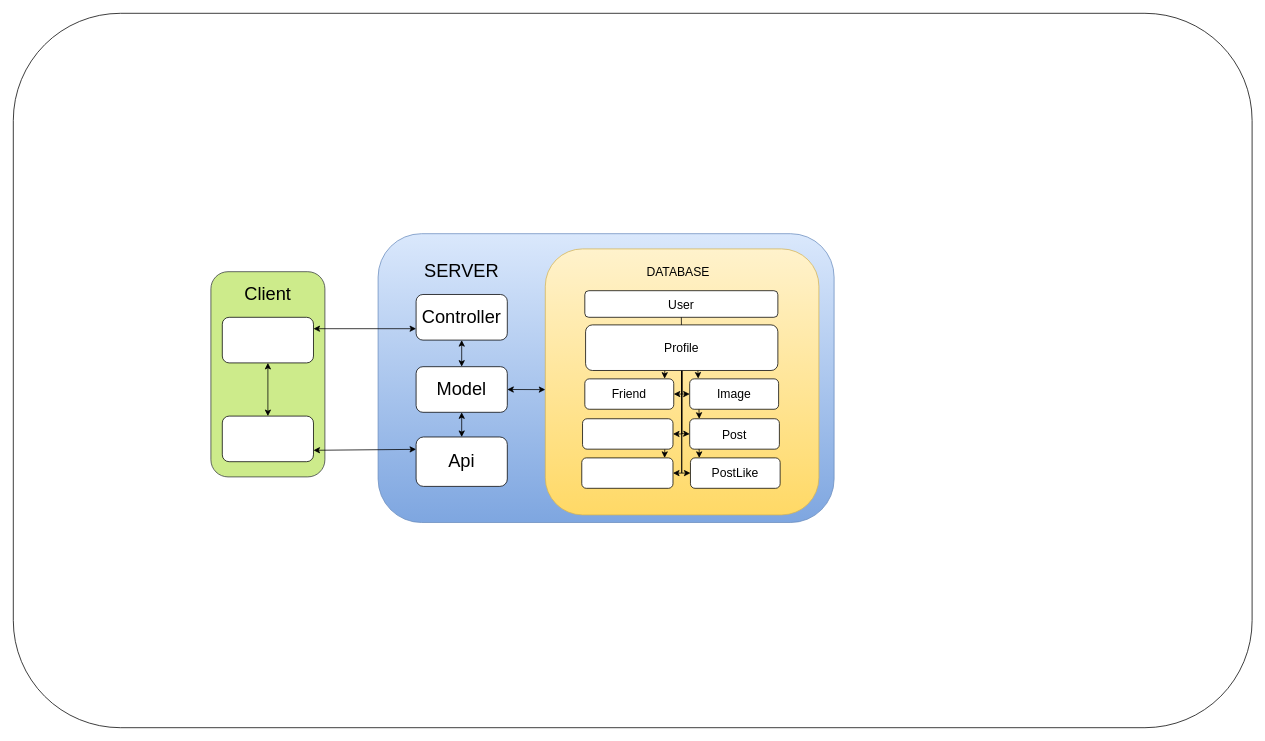
This 1265x741 diagram has some shape labels left out. Here are the shapes that lost their labels. From the top down, the centre of each, then its label:
the point at 268,340: VIEW
the point at 268,438: JS
the point at 627,433: Comment
the point at 627,472: CommentLike
